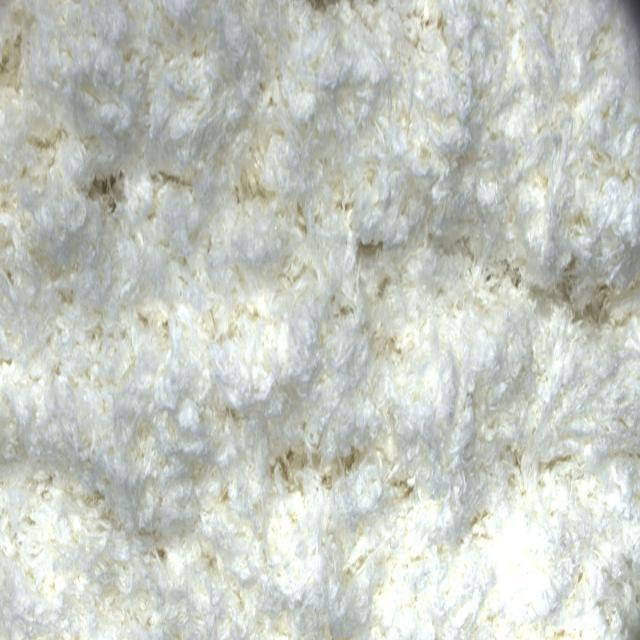dust: (89, 169, 130, 222)
